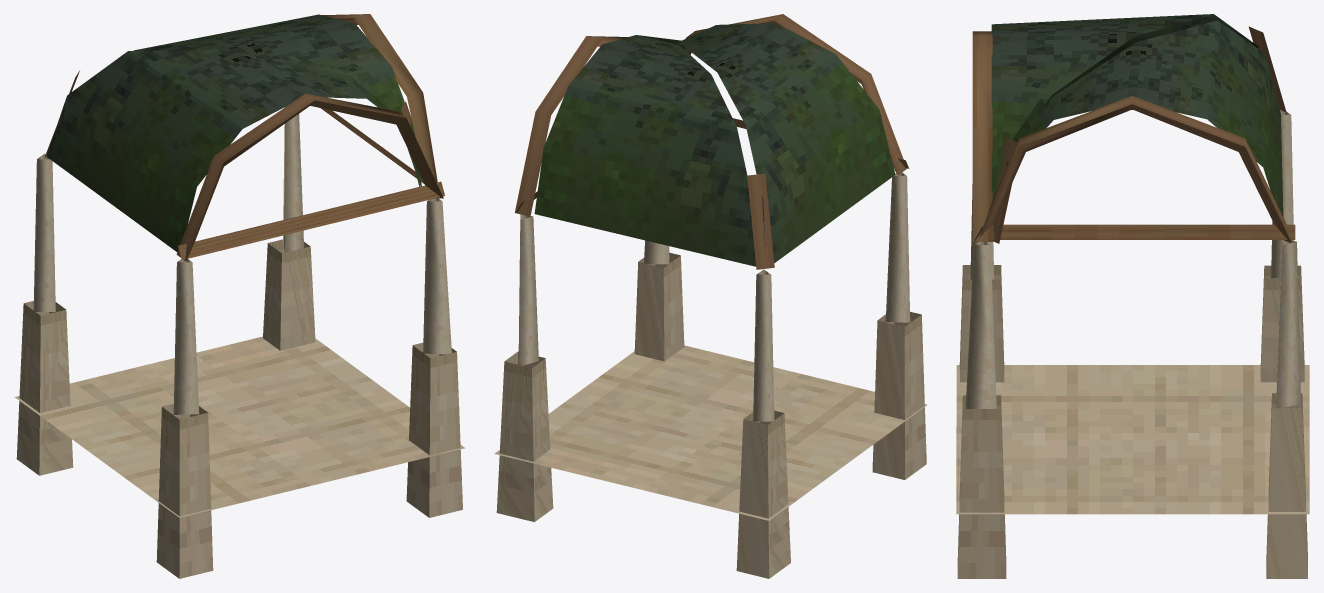
The model's file is thm_nboo_imprv_arbor_corner_90_s01_l2.fbx.
3 renders of one model, left to right at view 1: azimuth 30°, elevation 25°; view 2: azimuth 150°, elevation 25°; view 3: azimuth 270°, elevation 25°, orthographic. The views are drawn at different scales.
Parts seen in each view (by area): view 1: mesh_node; view 2: mesh_node; view 3: mesh_node.
Part boxes in pixels (x1,y1,x2,y2): mesh_node: [14, 14, 465, 578]; mesh_node: [494, 14, 927, 578]; mesh_node: [956, 14, 1309, 578].
Bounding box in the file's own units: 4 × 5.86 × 4.
